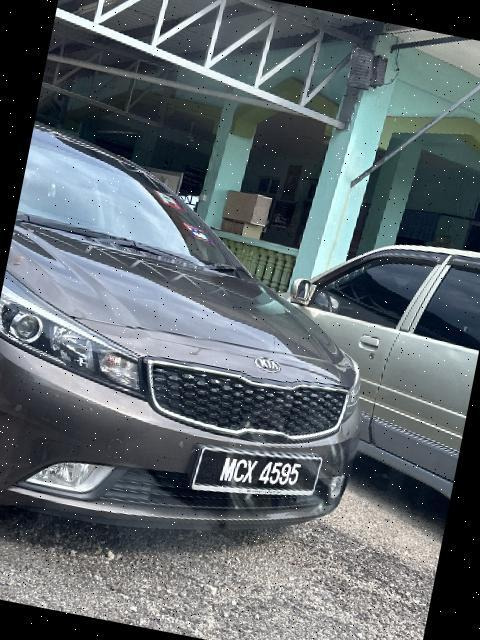License_Plate: (186, 430, 324, 518)
MCX4595: (186, 430, 324, 518)
car: (1, 117, 413, 583)
